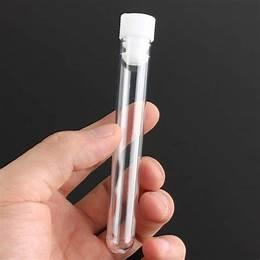Test tube: (98, 7, 151, 250)
